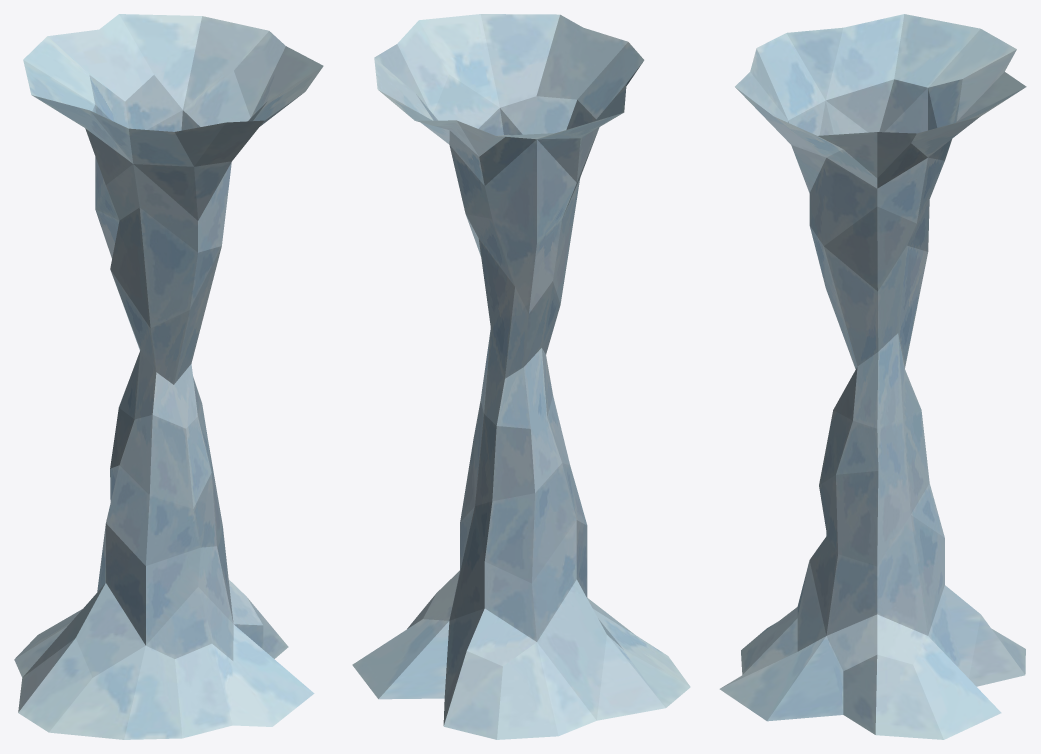
Rendered from cavepillar1.fbx.
The picture shows the model from 3 angles, left to right: view 1: azimuth 30°, elevation 25°; view 2: azimuth 150°, elevation 25°; view 3: azimuth 270°, elevation 25°; orthographic projection.
Parts seen in each view (by area): view 1: Cube; view 2: Cube; view 3: Cube.
Boxes of the visible parts, x1=… form: Cube: x1=14, y1=14, x2=323, y2=739; Cube: x1=352, y1=14, x2=690, y2=739; Cube: x1=719, y1=14, x2=1026, y2=739.
Bounding box in the file's own units: 959 × 1963 × 908.
